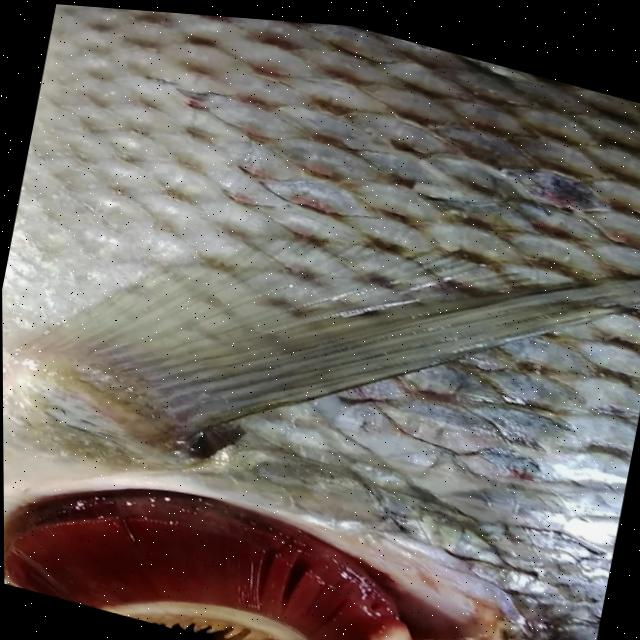Fresh: (3, 434, 452, 640)
